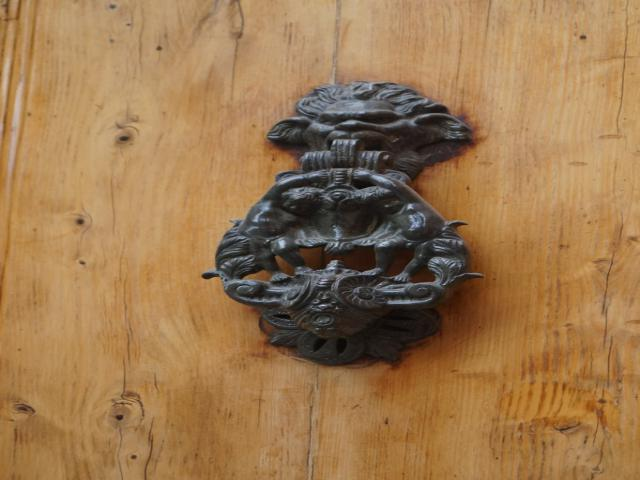Door-handle: (184, 79, 508, 374)
